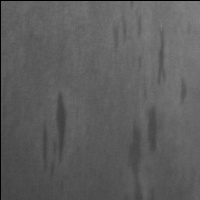inclusion: (38, 86, 72, 182), (123, 117, 148, 200), (108, 7, 147, 54), (148, 24, 171, 87), (143, 103, 167, 155), (175, 73, 192, 107)
